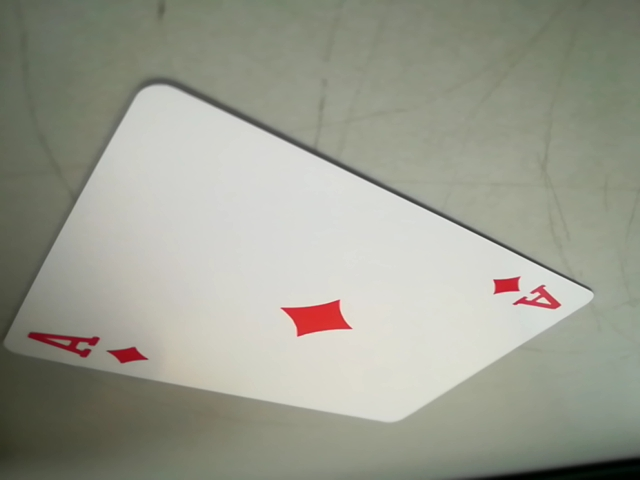fk a: (8, 328, 153, 367), (490, 268, 575, 318)
